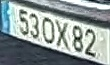2: (84, 27, 96, 58)
3: (28, 12, 39, 39)
5: (18, 8, 29, 36)
8: (71, 24, 83, 53)
O: (41, 16, 55, 44)
X: (54, 17, 71, 51)
